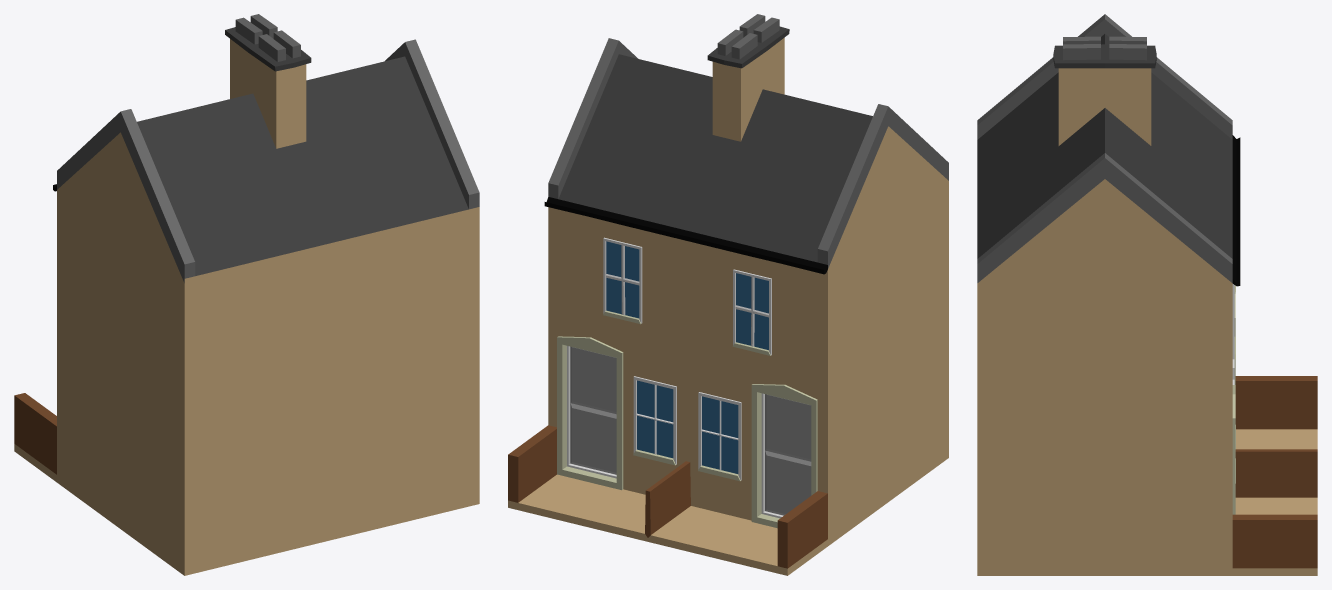
The model's file is TerriceHouses.fbx.
The picture shows the model from 3 angles, left to right: view 1: azimuth 30°, elevation 25°; view 2: azimuth 150°, elevation 25°; view 3: azimuth 270°, elevation 25°; orthographic projection. The views are drawn at different scales.
Parts seen in each view (by area): view 1: Terrice Houses; view 2: Terrice Houses; view 3: Terrice Houses.
Boxes of the visible parts, x1,y1,x2,y2 form: Terrice Houses: [14, 14, 479, 575]; Terrice Houses: [508, 14, 948, 575]; Terrice Houses: [977, 14, 1317, 575].
Size of the model in its own units: 8010 by 11974 by 8000.
